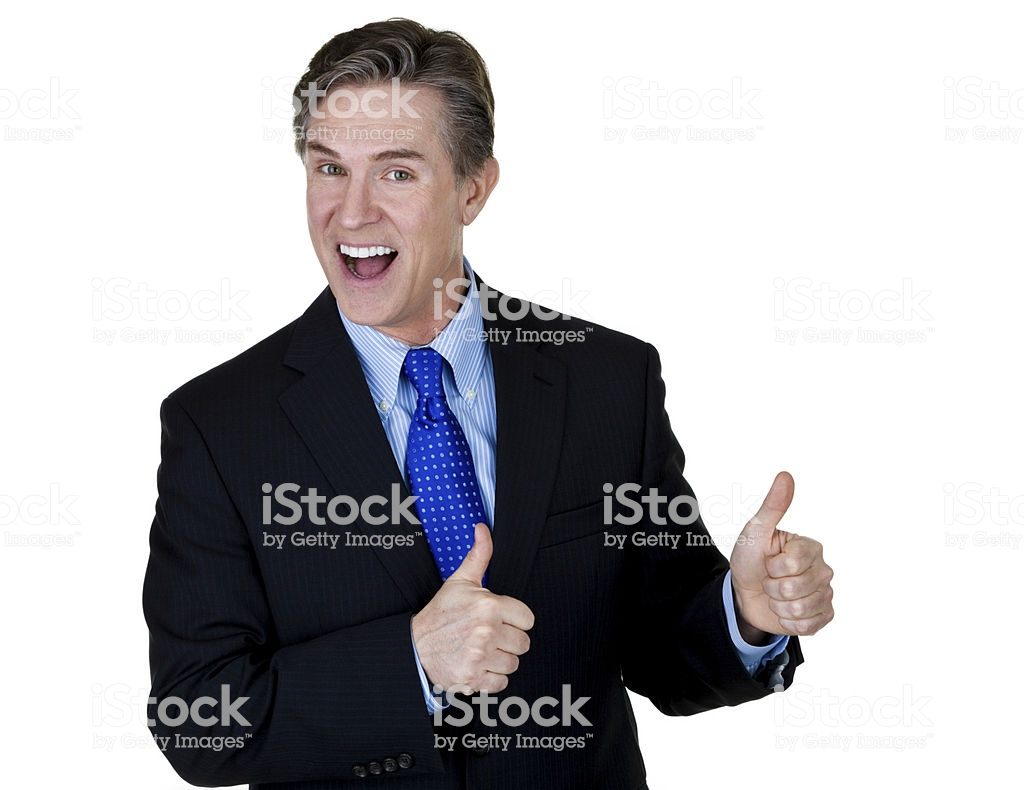thumbsup: (452, 521, 538, 694), (752, 472, 836, 636)
